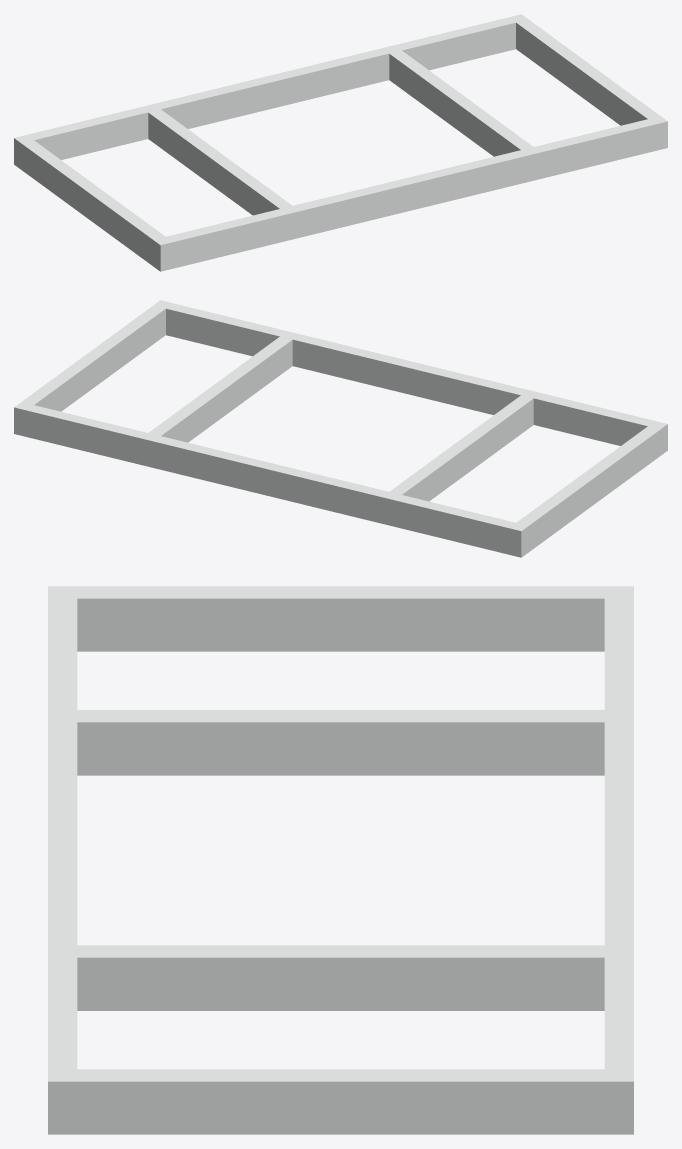
File: slot.fbx
3 renders of one model, top to bottom at view 1: azimuth 30°, elevation 25°; view 2: azimuth 150°, elevation 25°; view 3: azimuth 270°, elevation 25°, orthographic. The views are drawn at different scales.
Parts seen in each view (by area): view 1: Slot_chunhat, Slot_vuong; view 2: Slot_chunhat, Slot_vuong; view 3: Slot_chunhat, Slot_vuong.
Part boxes in pixels (<box>): Slot_chunhat: <box>14,14,667,271</box>; Slot_vuong: <box>144,45,537,240</box>; Slot_chunhat: <box>14,300,667,557</box>; Slot_vuong: <box>141,331,540,526</box>; Slot_chunhat: <box>48,586,633,1134</box>; Slot_vuong: <box>50,710,633,1010</box>.
Bounding box in the file's own units: 400 × 20 × 200.
